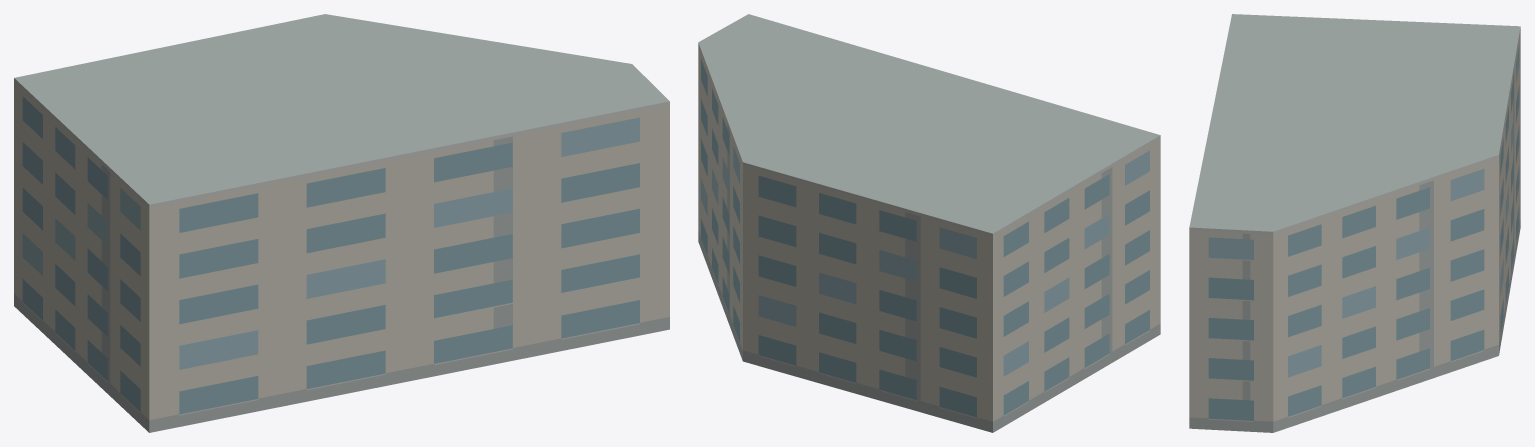
The model's file is survey-upis-32923277.glb.
The picture shows the model from 3 angles, left to right: view 1: azimuth 30°, elevation 25°; view 2: azimuth 150°, elevation 25°; view 3: azimuth 270°, elevation 25°; orthographic projection. The views are drawn at different scales.
Visible parts, largest first — view 1: survey-upis-32923277.tmp; view 2: survey-upis-32923277.tmp; view 3: survey-upis-32923277.tmp.
Part boxes in pixels (<box>): survey-upis-32923277.tmp: <box>14,14,669,432</box>; survey-upis-32923277.tmp: <box>698,14,1160,432</box>; survey-upis-32923277.tmp: <box>1189,14,1520,432</box>.
Bounding box in the file's own units: 32.97 × 14.2 × 21.2.
